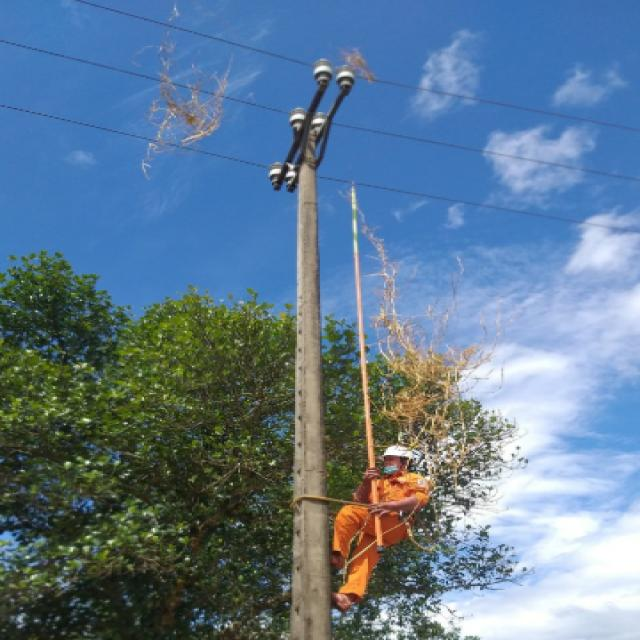植被遮挡: (137, 31, 248, 186), (329, 41, 381, 89)
